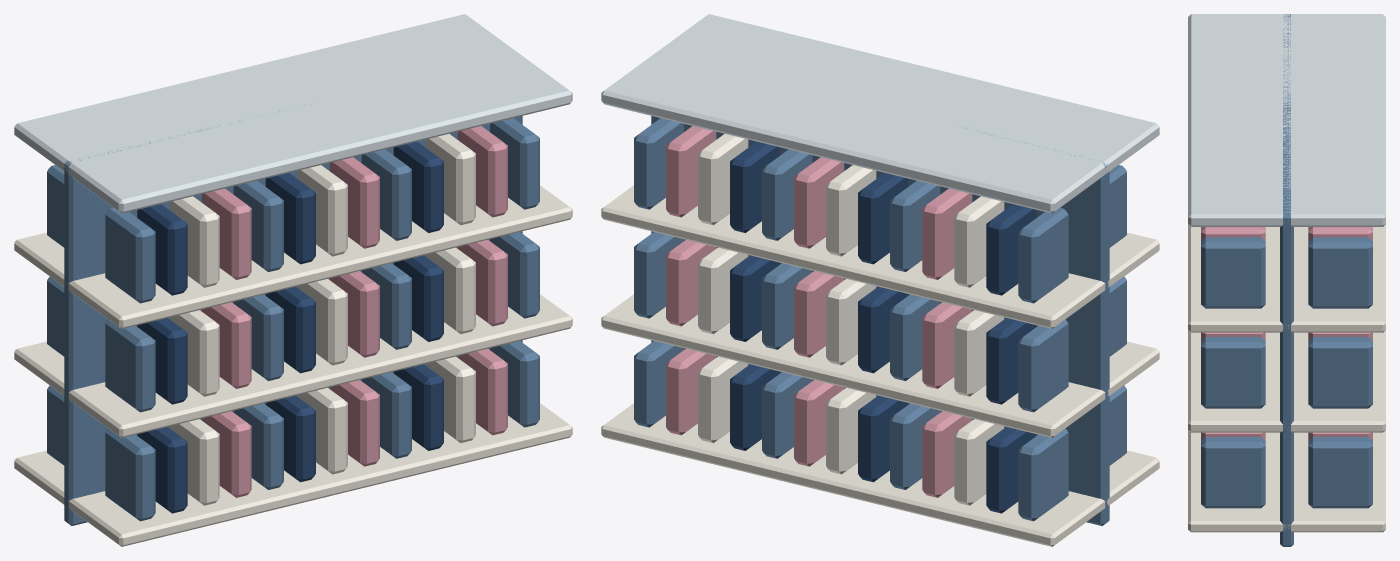
File: campus_01.glb
3 renders of one model, left to right at view 1: azimuth 30°, elevation 25°; view 2: azimuth 150°, elevation 25°; view 3: azimuth 270°, elevation 25°, orthographic. The views are drawn at different scales.
Visible parts, largest first — view 1: Book (×42), BookcaseCap, Shelf (×3), BookcaseSpine; view 2: Book (×42), BookcaseCap, Shelf (×3), BookcaseSpine; view 3: BookcaseCap, Book (×12), Shelf (×3), BookcaseSpine.
Part boxes in pixels (x1=…): Book (×42): x1=47, y1=118, x2=539, y2=521; BookcaseCap: x1=14, y1=14, x2=572, y2=213; Shelf (×3): x1=14, y1=185, x2=572, y2=546; BookcaseSpine: x1=64, y1=104, x2=522, y2=525; Book (×42): x1=634, y1=118, x2=1126, y2=521; BookcaseCap: x1=601, y1=14, x2=1159, y2=213; Shelf (×3): x1=601, y1=185, x2=1159, y2=546; BookcaseSpine: x1=651, y1=116, x2=1109, y2=525; BookcaseCap: x1=1188, y1=14, x2=1385, y2=226; Book (×12): x1=1201, y1=227, x2=1372, y2=508; Shelf (×3): x1=1188, y1=224, x2=1385, y2=532; BookcaseSpine: x1=1280, y1=14, x2=1293, y2=546.
Bounding box in the file's own units: 1.7 × 1.3 × 0.7.
